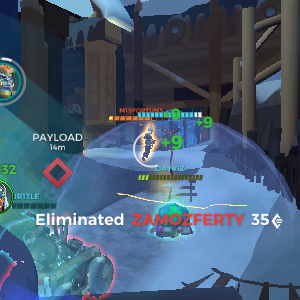model: (138, 122, 157, 164)
